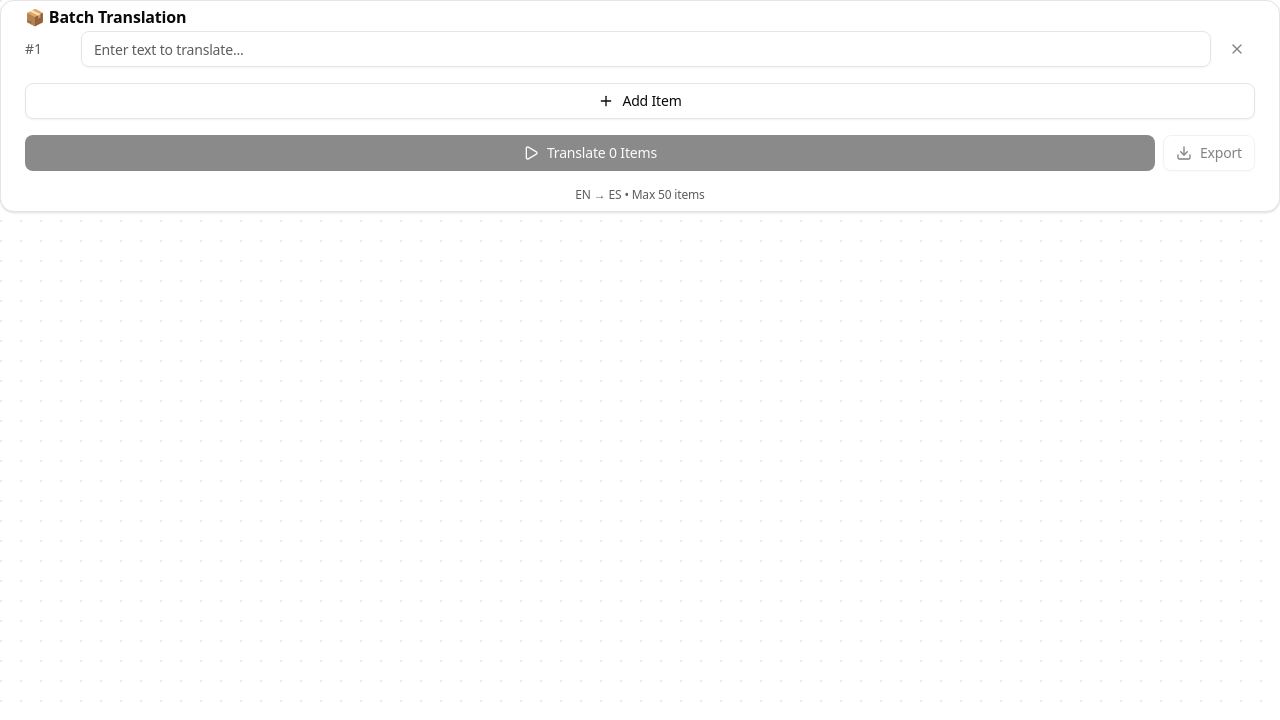
Test case: BatchTranslationCard › enables translate button with valid text
The image size is (1280, 720).
Type "Hello" into the field with test id "batch-item-1" at (646, 49), box [81, 31, 1211, 67]
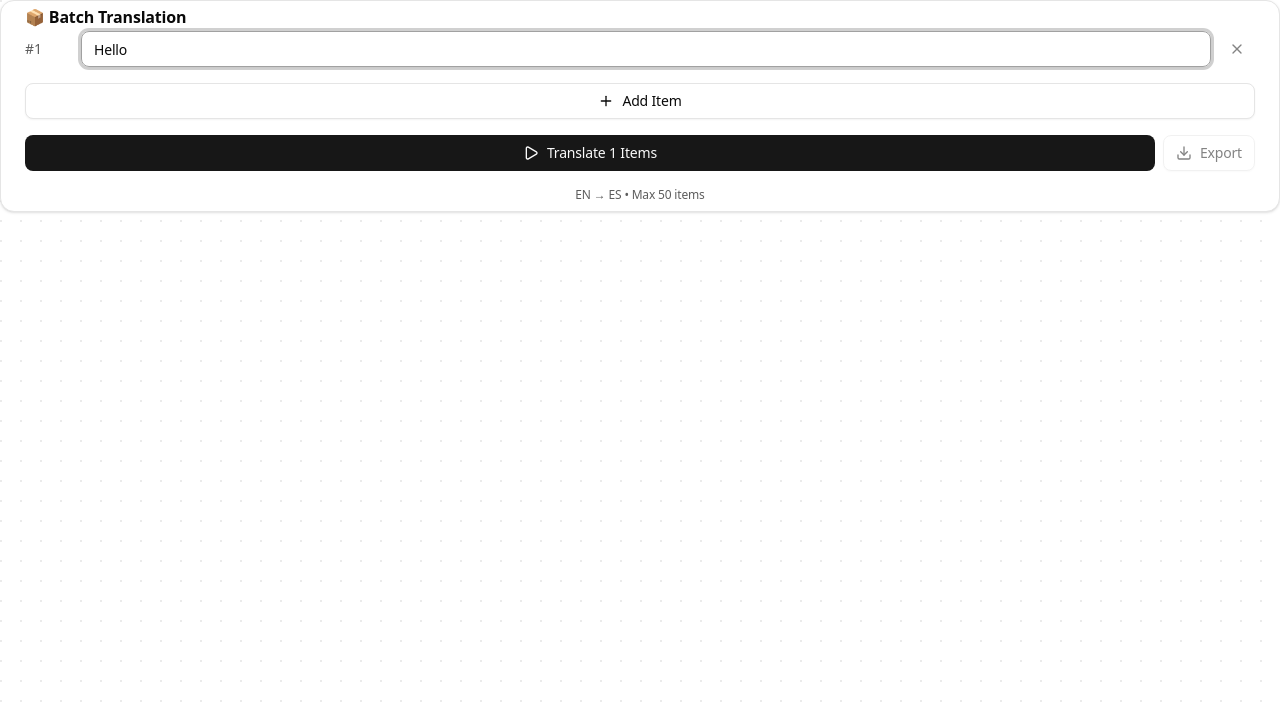
Expected: the button with test id "start-batch-translation" is enabled, [25, 135, 1155, 171]
